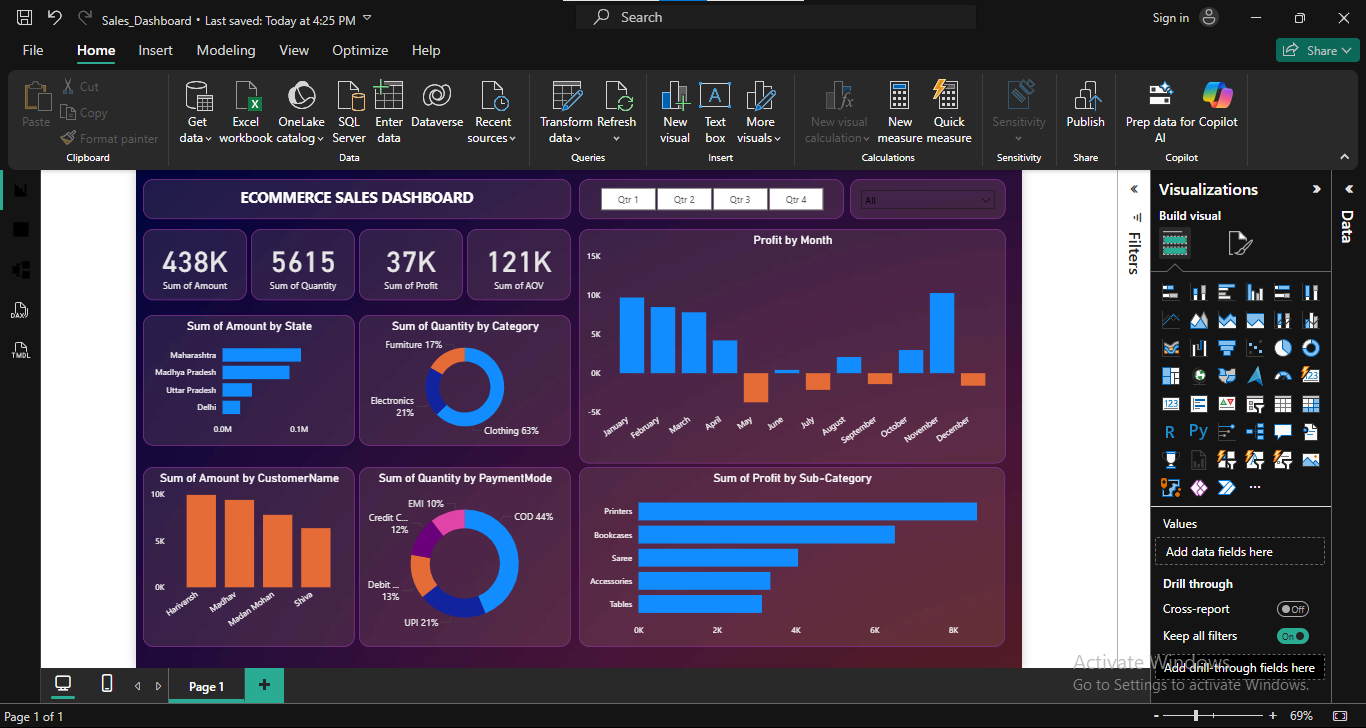

What the dashboard file says about the page in this screenshot:
{"tool":"powerbi","page":{"name":"Page 1","canvas":[1280,720],"ordinal":0},"visuals":[{"type":"textbox","box":[9.9,13.2,618.6,57.6],"z":0},{"type":"columnChart","title":"Profit by Month","fields":{"Category":["Orders.Order Date.Variation.Date Hierarchy.Month"],"Y":["Sum(Details.Profit)"]},"box":[640,85.6,617,338.9],"z":1000},{"type":"barChart","fields":{"Category":["Details.Sub-Category"],"Y":["Sum(Details.Profit)"]},"box":[640.5,429.4,615.9,260.2],"z":2000},{"type":"donutChart","fields":{"Category":["Details.Category"],"Y":["Sum(Details.Quantity)"]},"box":[322.5,208.9,306,189.2],"z":3000},{"type":"donutChart","fields":{"Y":["Sum(Details.Quantity)"],"Category":["Details.PaymentMode"]},"box":[322.5,429.4,306,259.9],"z":4000},{"type":"card","fields":{"Values":["Sum(Details.Amount)"]},"box":[10.1,85.3,150.4,102.7],"z":5000},{"type":"card","fields":{"Values":["Sum(Details.Quantity)"]},"box":[166.3,85.3,150.4,102.7],"z":6000},{"type":"card","fields":{"Values":["Sum(Details.Profit)"]},"box":[322.4,85.3,150.4,102.7],"z":7000},{"type":"card","fields":{"Values":["Sum(Details.AOV)"]},"box":[478.6,85.3,150.4,102.7],"z":8000},{"type":"barChart","fields":{"Category":["Orders.State"],"Y":["Sum(Details.Amount)"]},"box":[9.9,208.9,306,189.2],"z":9000},{"type":"columnChart","fields":{"Category":["Orders.CustomerName"],"Y":["Sum(Details.Amount)"]},"box":[9.9,429.4,306,259.9],"z":10000},{"type":"slicer","fields":{"Values":["Orders.Order Date.Variation.Date Hierarchy.Quarter"]},"box":[640,13.2,383.3,57.6],"z":11000},{"type":"slicer","fields":{"Values":["Orders.State"]},"box":[1031.6,13.2,225.4,57.6],"z":12000}]}

Visuals, with their boxes on the page's 1280x720 design canvas (x1, y1, x2, y2). These are canvas units, not pixel positions in the 1366x728 screenshot, which may show the page scaled, cropped or inside an application window:
textbox: pyautogui.locateOnScreen(10, 13, 628, 71)
"Profit by Month" columnChart: pyautogui.locateOnScreen(640, 86, 1257, 424)
barChart - Details.Sub-Category x Sum(Details.Profit): pyautogui.locateOnScreen(640, 429, 1256, 690)
donutChart - Details.Category x Sum(Details.Quantity): pyautogui.locateOnScreen(322, 209, 628, 398)
donutChart - Sum(Details.Quantity) x Details.PaymentMode: pyautogui.locateOnScreen(322, 429, 628, 689)
card - Sum(Details.Amount): pyautogui.locateOnScreen(10, 85, 160, 188)
card - Sum(Details.Quantity): pyautogui.locateOnScreen(166, 85, 317, 188)
card - Sum(Details.Profit): pyautogui.locateOnScreen(322, 85, 473, 188)
card - Sum(Details.AOV): pyautogui.locateOnScreen(479, 85, 629, 188)
barChart - Orders.State x Sum(Details.Amount): pyautogui.locateOnScreen(10, 209, 316, 398)
columnChart - Orders.CustomerName x Sum(Details.Amount): pyautogui.locateOnScreen(10, 429, 316, 689)
slicer - Orders.Order Date.Variation.Date Hierarchy.Quarter: pyautogui.locateOnScreen(640, 13, 1023, 71)
slicer - Orders.State: pyautogui.locateOnScreen(1032, 13, 1257, 71)
